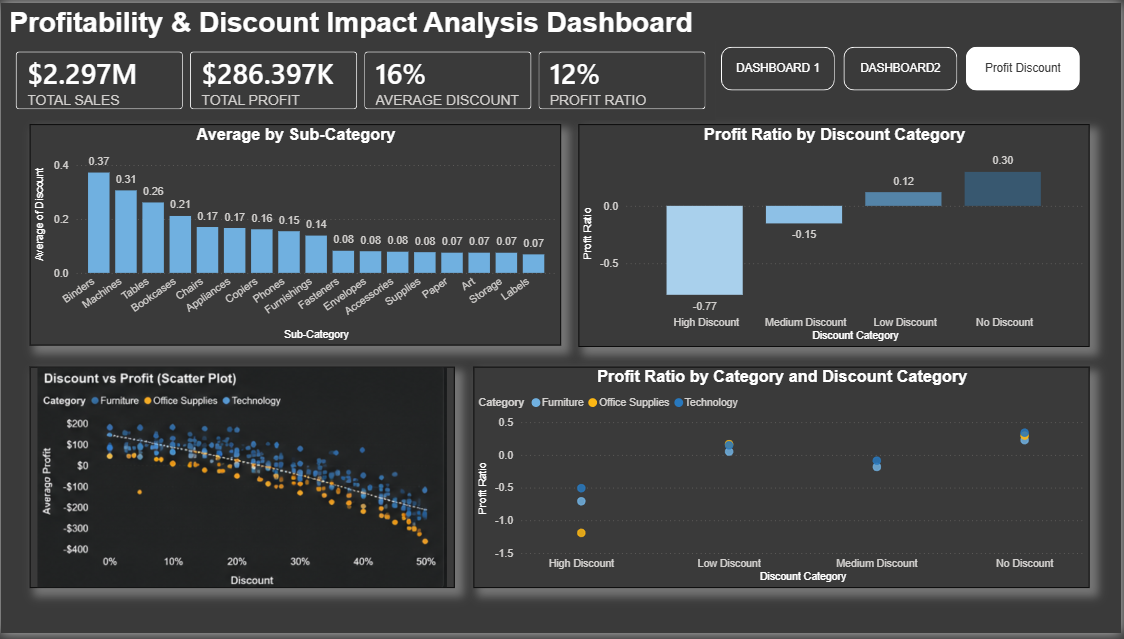

This screenshot's page, from the dashboard's own definition file:
{"tool":"powerbi","page":{"name":"Profit Discount","canvas":[1280,720],"ordinal":2},"visuals":[{"type":"columnChart","title":"Average by Sub-Category","fields":{"Category":["Sample_Superstore_Clean.Sub-Category"],"Y":["Avg(Sample_Superstore_Clean.Discount)"]},"box":[32.9,138.6,607.1,252.9],"z":0},{"type":"columnChart","fields":{"Category":["Sample_Superstore_Clean.Discount Category"],"Y":["Sample_Superstore_Clean.Profit Ratio"]},"box":[660,138,584,254],"z":1000},{"type":"textbox","box":[0,0,800,50],"z":2000},{"type":"scatterChart","fields":{"X":["Sample_Superstore_Clean.Discount Category"],"Series":["Sample_Superstore_Clean.Category"],"Y":["Sample_Superstore_Clean.Profit Ratio"]},"box":[540,415.7,704.3,252.9],"z":3000},{"type":"cardVisual","fields":{"Data":["Sum(Sample_Superstore_Clean.Sales)","Sum(Sample_Superstore_Clean.Profit)","Avg(Sample_Superstore_Clean.Discount)","Sample_Superstore_Clean.Profit Ratio"]},"box":[0,38.6,822.9,100],"z":4000},{"type":"image","box":[32.9,415.7,485.7,252.9],"z":5000},{"type":"pageNavigator","box":[822.9,50,410,50],"z":6000}]}

Visuals, with their boxes in screenshot pixels (x1, y1, x2, y2), scaled from the page's 1280x720 canvas onto the 1124x639 screenshot:
"Average by Sub-Category" columnChart: 29 123 562 347
columnChart - Sample_Superstore_Clean.Discount Category x Sample_Superstore_Clean.Profit Ratio: 580 122 1092 348
textbox: 0 0 702 44
scatterChart - Sample_Superstore_Clean.Discount Category x Sample_Superstore_Clean.Category: 474 369 1093 593
cardVisual - Sum(Sample_Superstore_Clean.Sales) x Sum(Sample_Superstore_Clean.Profit): 0 34 723 123
image: 29 369 455 593
pageNavigator: 723 44 1083 89
